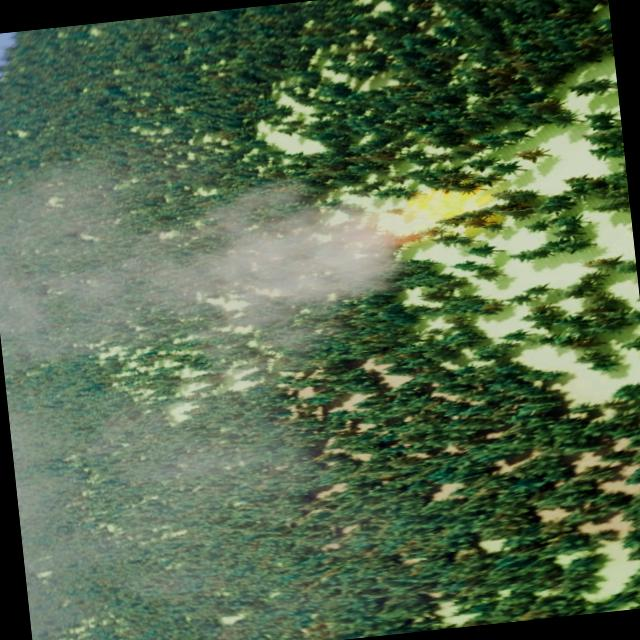smoke: (0, 122, 435, 618)
